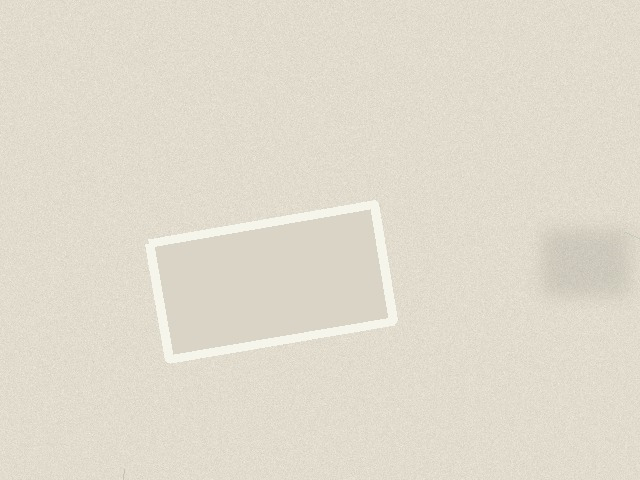parking_area: (149, 204, 393, 359)
